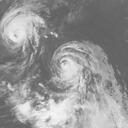cyclone: (51, 41, 105, 91), (1, 8, 42, 47)
